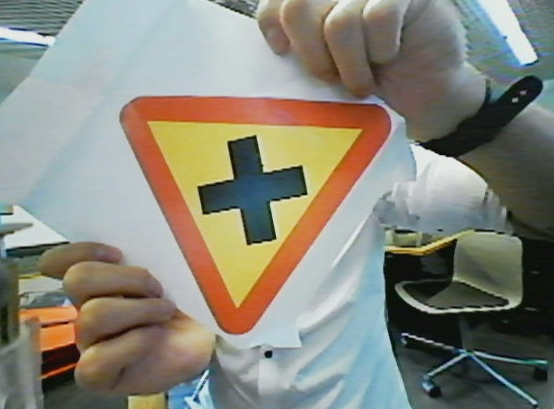junction: (107, 90, 405, 330)
